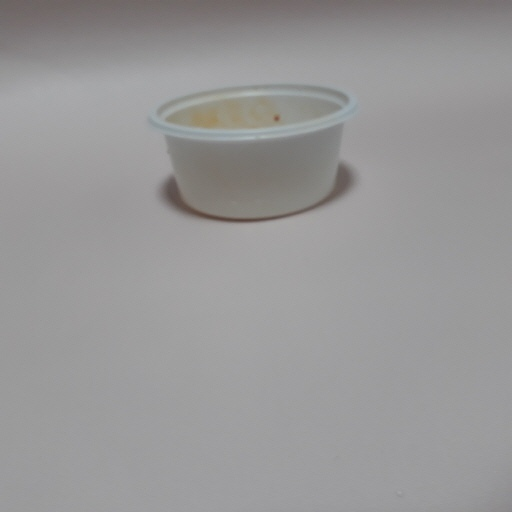Plastic_5: (145, 77, 359, 226)
